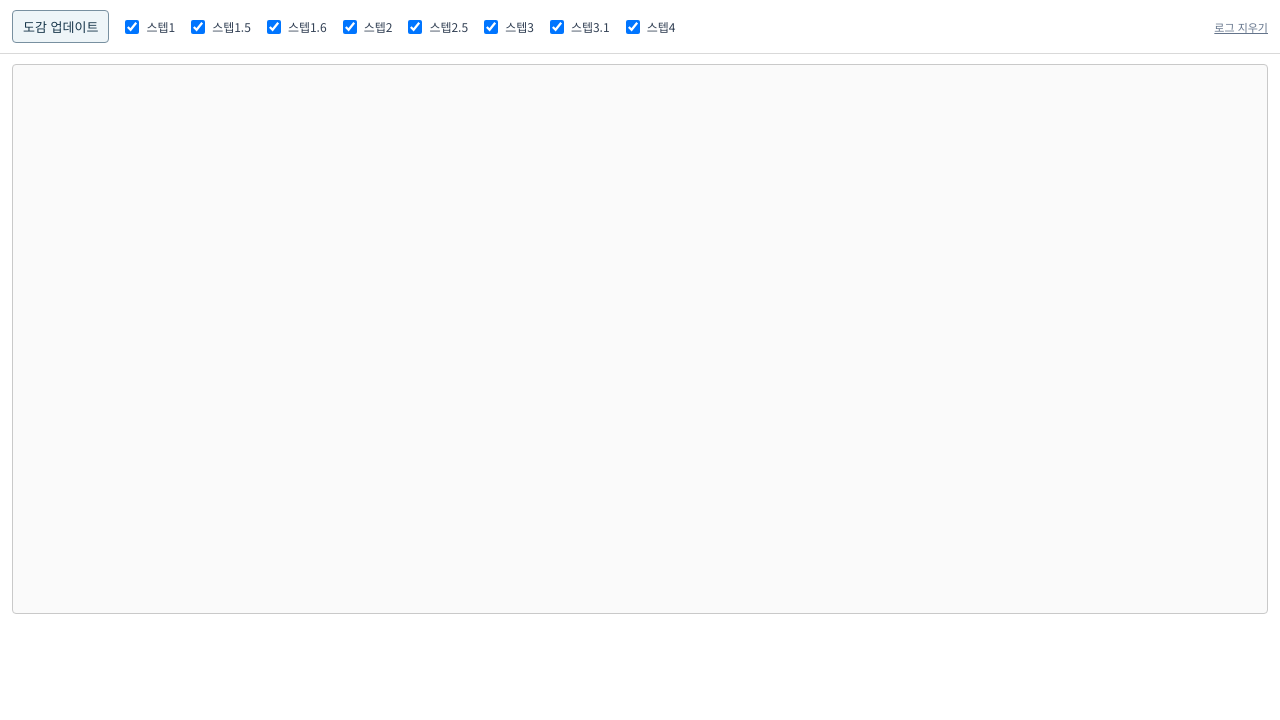
it: PokedexPage › 스텝 실행이 실패하면 이후 스텝을 실행하지 않고 실패 로그를 남긴다
Click the link "도감 업데이트".
click(61, 26)  # box [12,10,109,43]
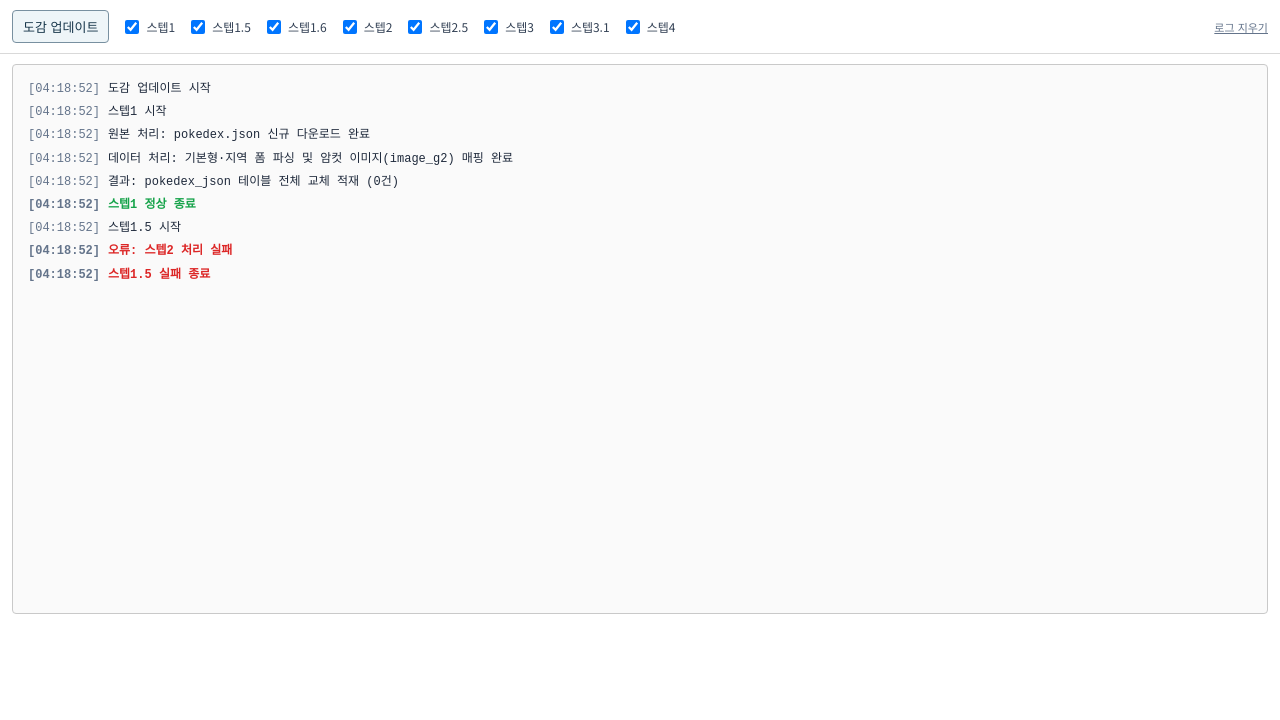
Now the text "[04:18:52]스텝1.5 실패 종료" is shown, box [28,268,210,282]
Now the text "[04:18:52]오류: 스텝2 처리 실패" is shown, box [28,244,232,258]
Now the text "[04:18:52]도감 업데이트 시작" is shown, box [28,82,211,96]
